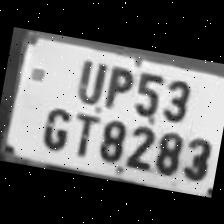2: (121, 118, 156, 172)
3: (155, 71, 194, 122), (176, 130, 214, 182)
5: (127, 66, 165, 117)
8: (92, 111, 129, 165), (150, 125, 186, 178)
G: (34, 100, 74, 153)
P: (98, 60, 136, 113)
T: (66, 108, 100, 160)
U: (71, 54, 108, 106)
